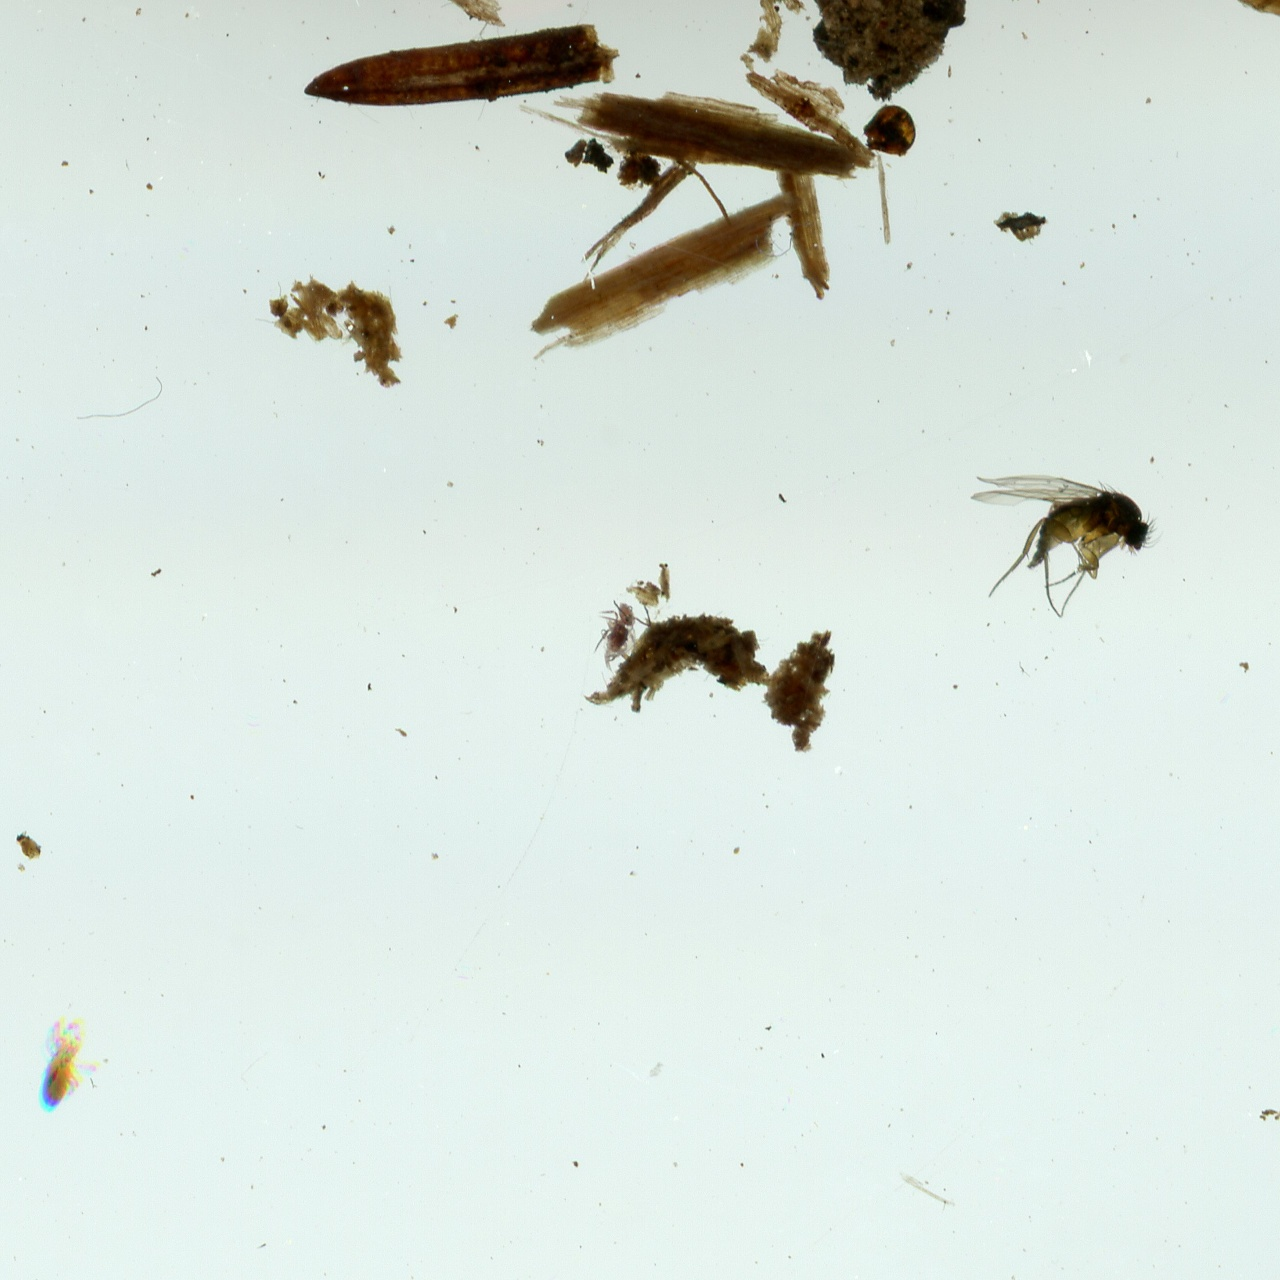arthropod: (968, 470, 1170, 622), (30, 1009, 114, 1124), (586, 594, 647, 681)
